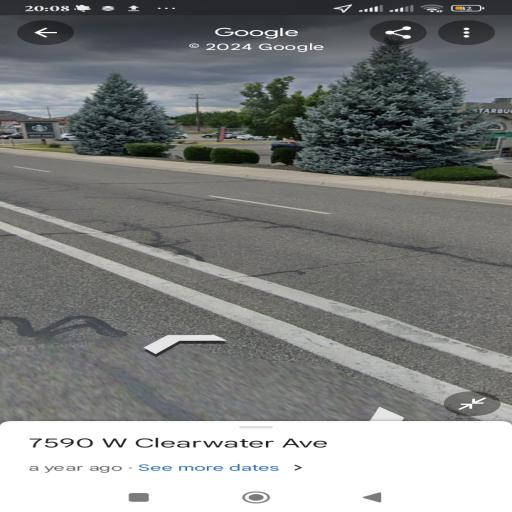Roads: (5, 149, 512, 413)
Trees: (287, 40, 487, 189), (57, 72, 178, 158)
